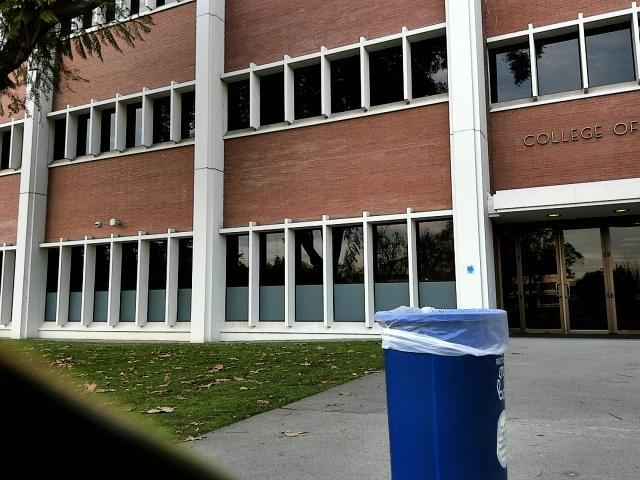trashcan_open: (363, 296, 526, 480)
